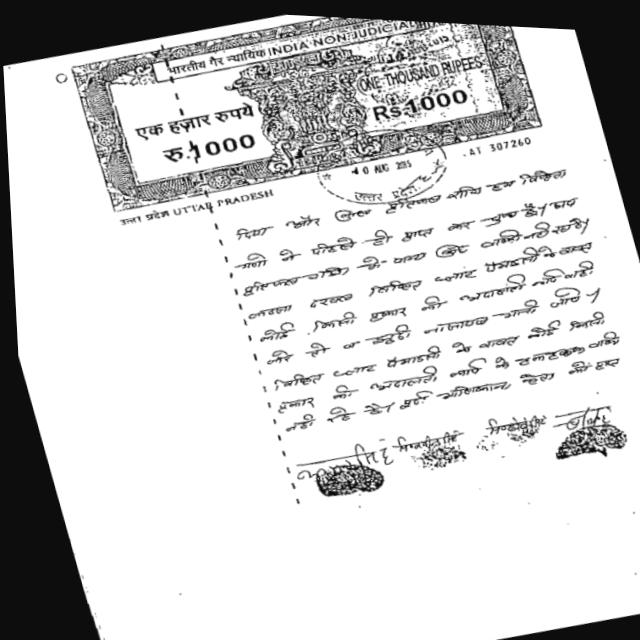afidivitstamp: (67, 3, 545, 230)
fingerprint: (544, 413, 630, 472), (309, 453, 388, 506), (410, 431, 476, 481)
mohar: (309, 111, 459, 221)
